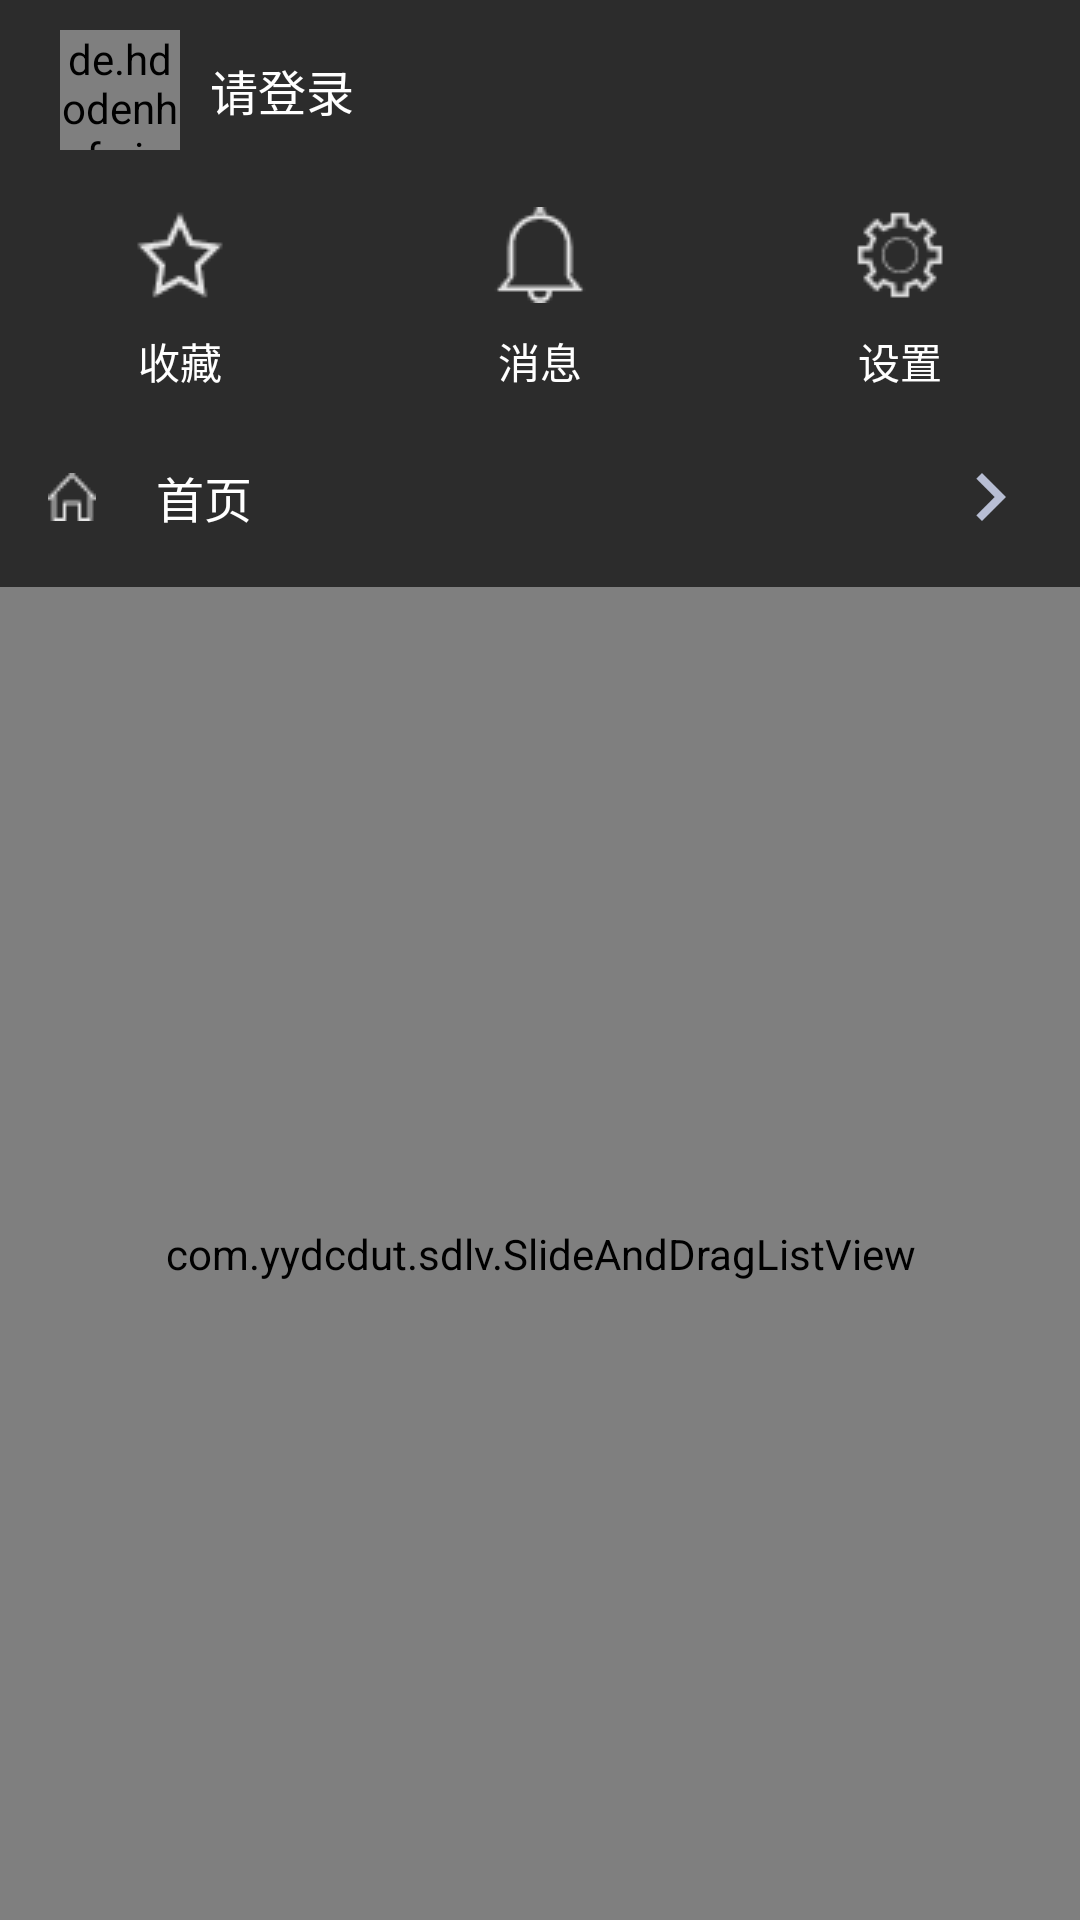

Where icons sit on this 1080*1920 app screen, as (x1, y1, x2, y2):
home: (48, 473, 96, 521)
right: (976, 473, 1006, 521)
